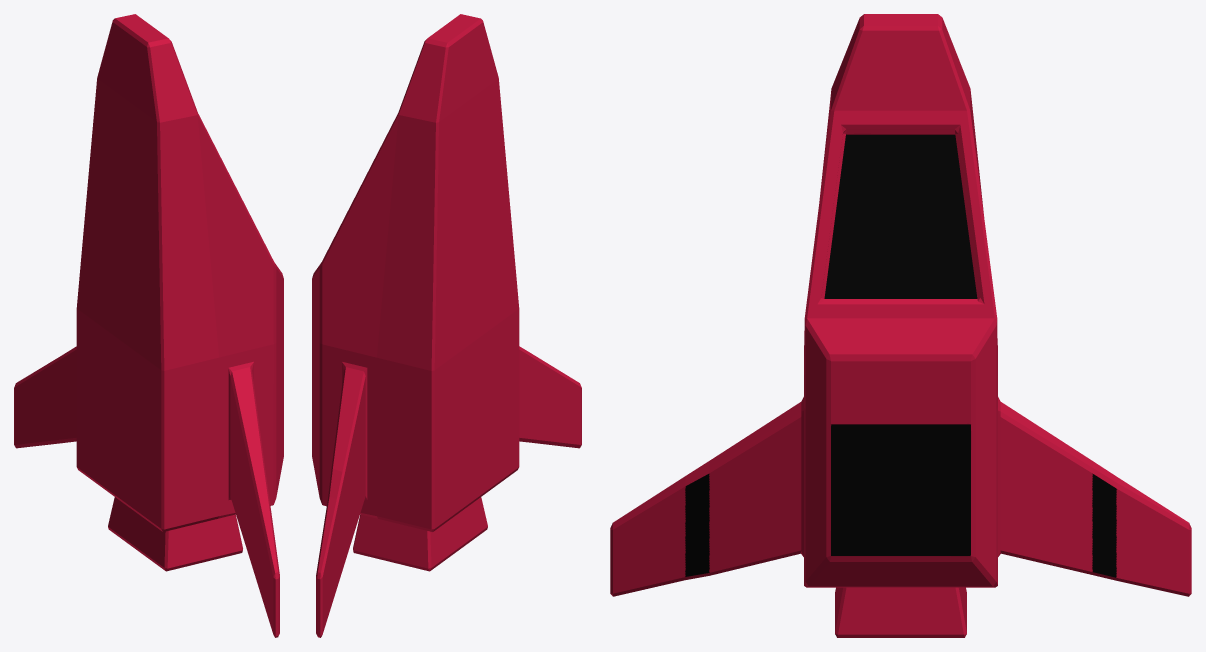
The model's file is RedShip42.fbx.
The picture shows the model from 3 angles, left to right: view 1: azimuth 30°, elevation 25°; view 2: azimuth 150°, elevation 25°; view 3: azimuth 270°, elevation 25°; orthographic projection. The views are drawn at different scales.
Parts seen in each view (by area): view 1: Cube.002; view 2: Cube.002; view 3: Cube.002.
Boxes of the visible parts, x1,y1,x2,y2 form: Cube.002: (14,14,283,637); Cube.002: (312,14,581,637); Cube.002: (610,14,1191,637).
Size of the model in its own units: 235 by 882 by 802.
1 material, 1 textured.
